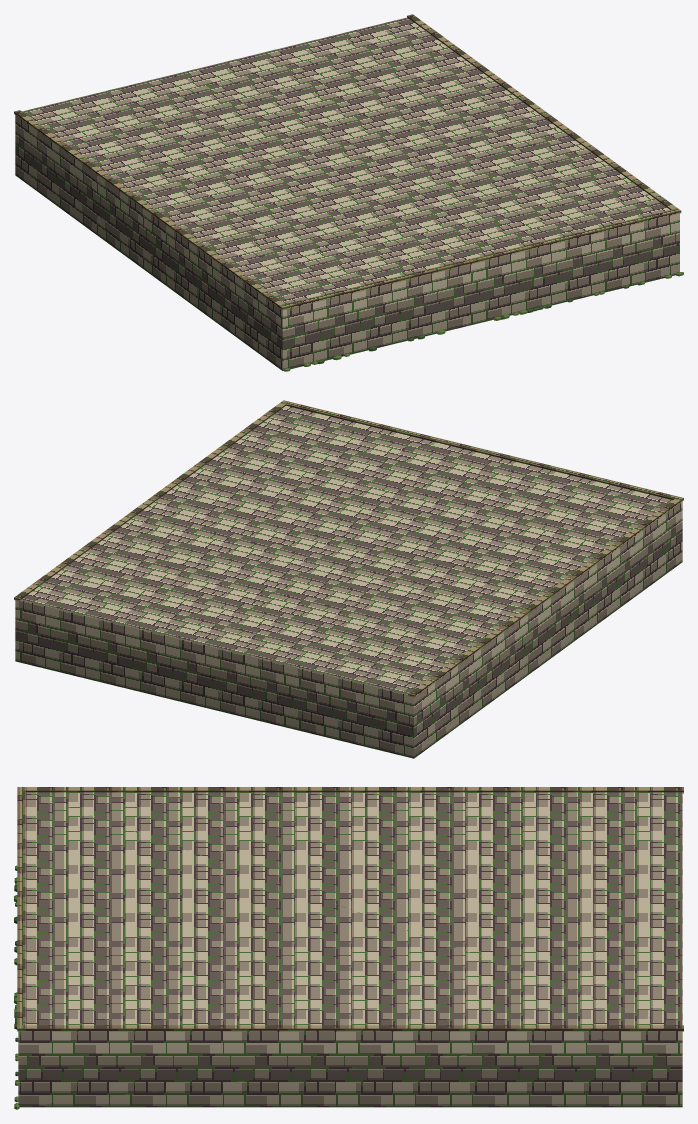
File: scene_wall_e.glb
3 views of the same model, one above another, from view 1: azimuth 30°, elevation 25°; view 2: azimuth 150°, elevation 25°; view 3: azimuth 270°, elevation 25° (orthographic). The views are drawn at different scales.
Parts seen in each view (by area): view 1: scene_wall_e; view 2: scene_wall_e; view 3: scene_wall_e.
Boxes of the visible parts, x1=… form: scene_wall_e: x1=14, y1=14, x2=683, y2=371; scene_wall_e: x1=14, y1=400, x2=683, y2=758; scene_wall_e: x1=14, y1=787, x2=683, y2=1109.
Bounding box in the file's own units: 24.26 × 3.77 × 28.24.
Materials: 2 (1 with a texture image).
